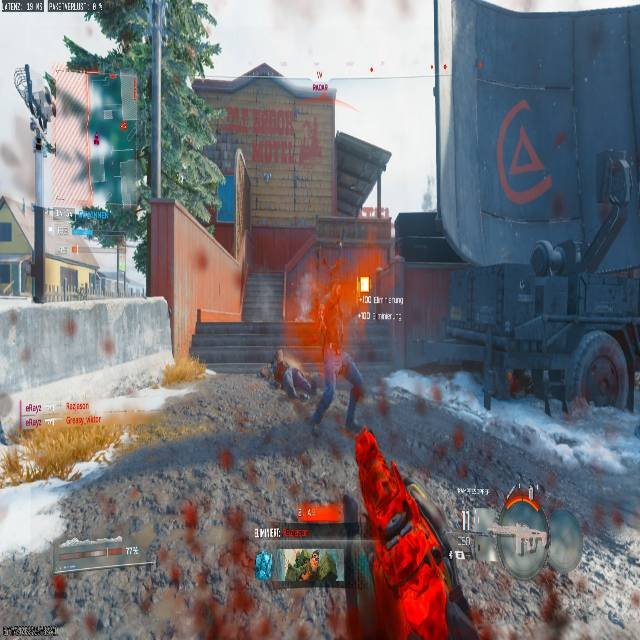player: (307, 346, 362, 441), (258, 350, 313, 414)
